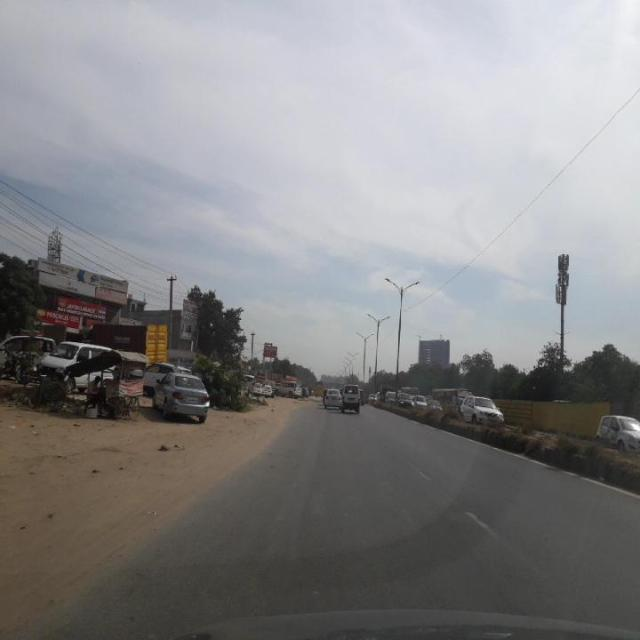D44: (458, 501, 524, 569)
